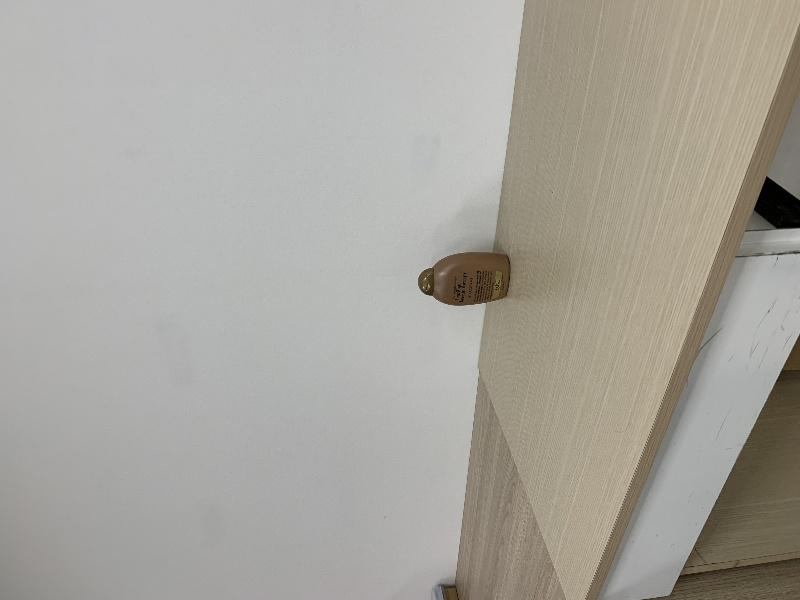BrazilianKeratinTherapy_Shampoo: (419, 252, 510, 306)
